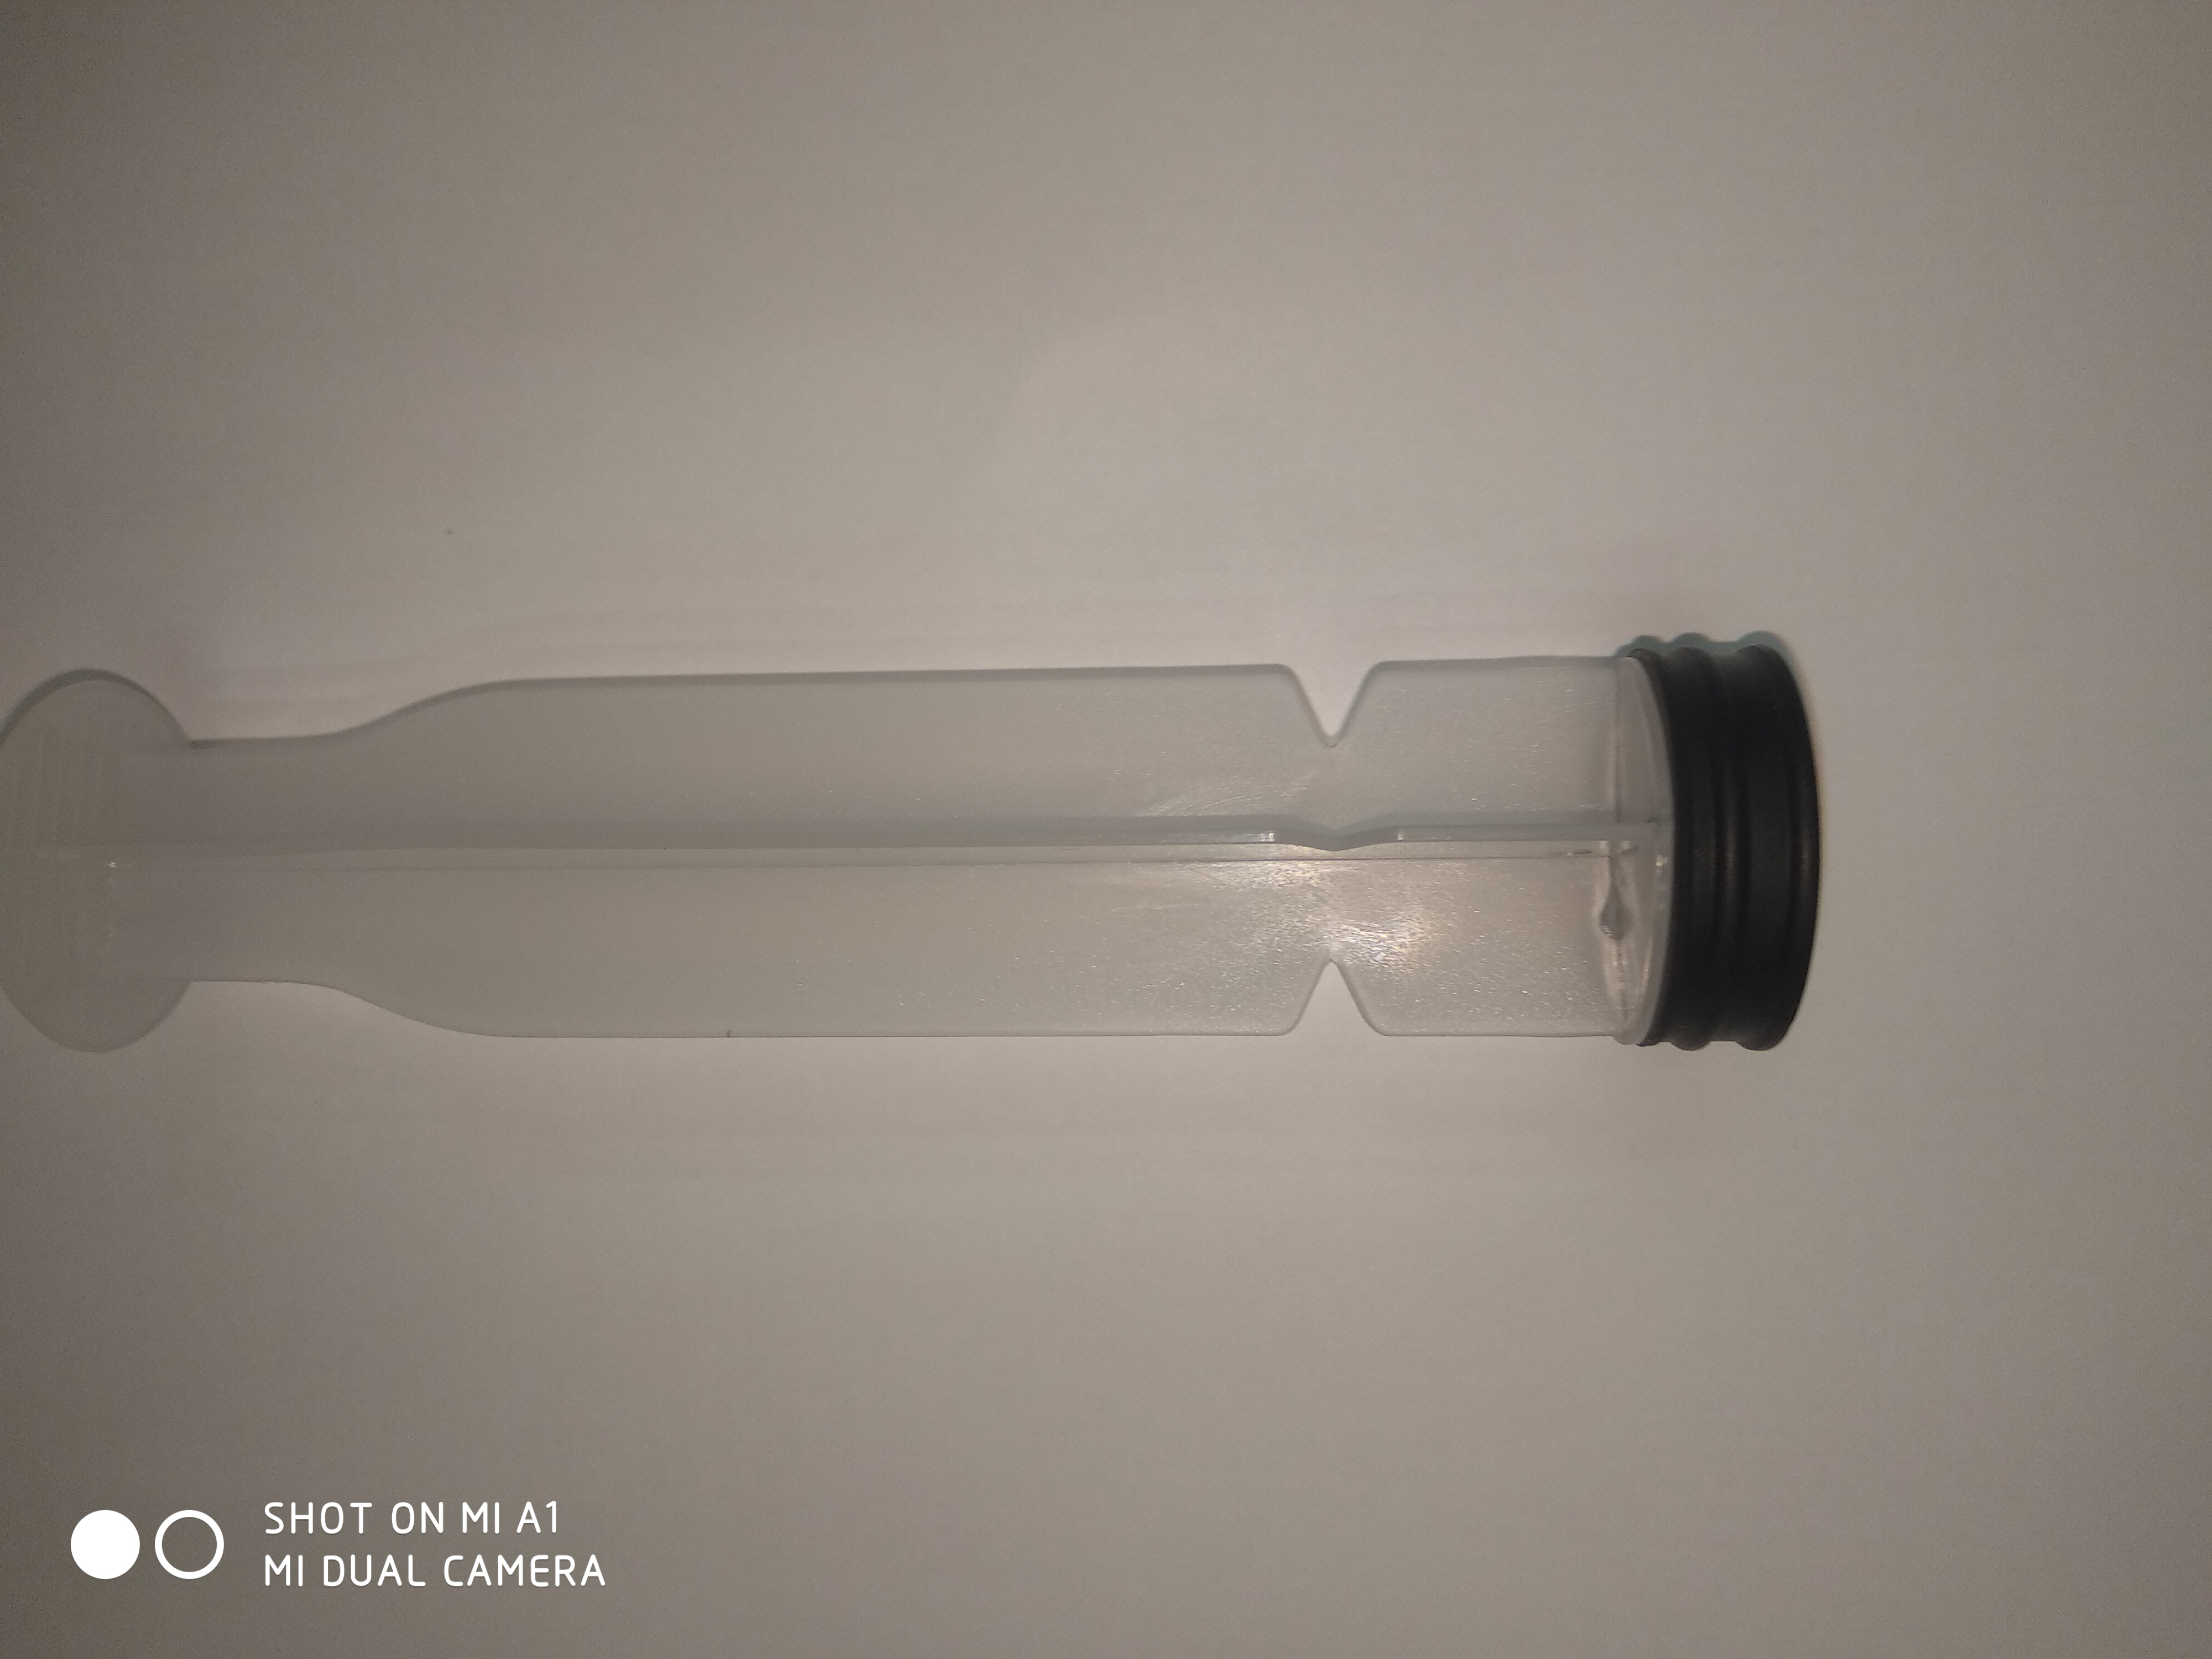plunger: (3, 648, 1827, 1063)
